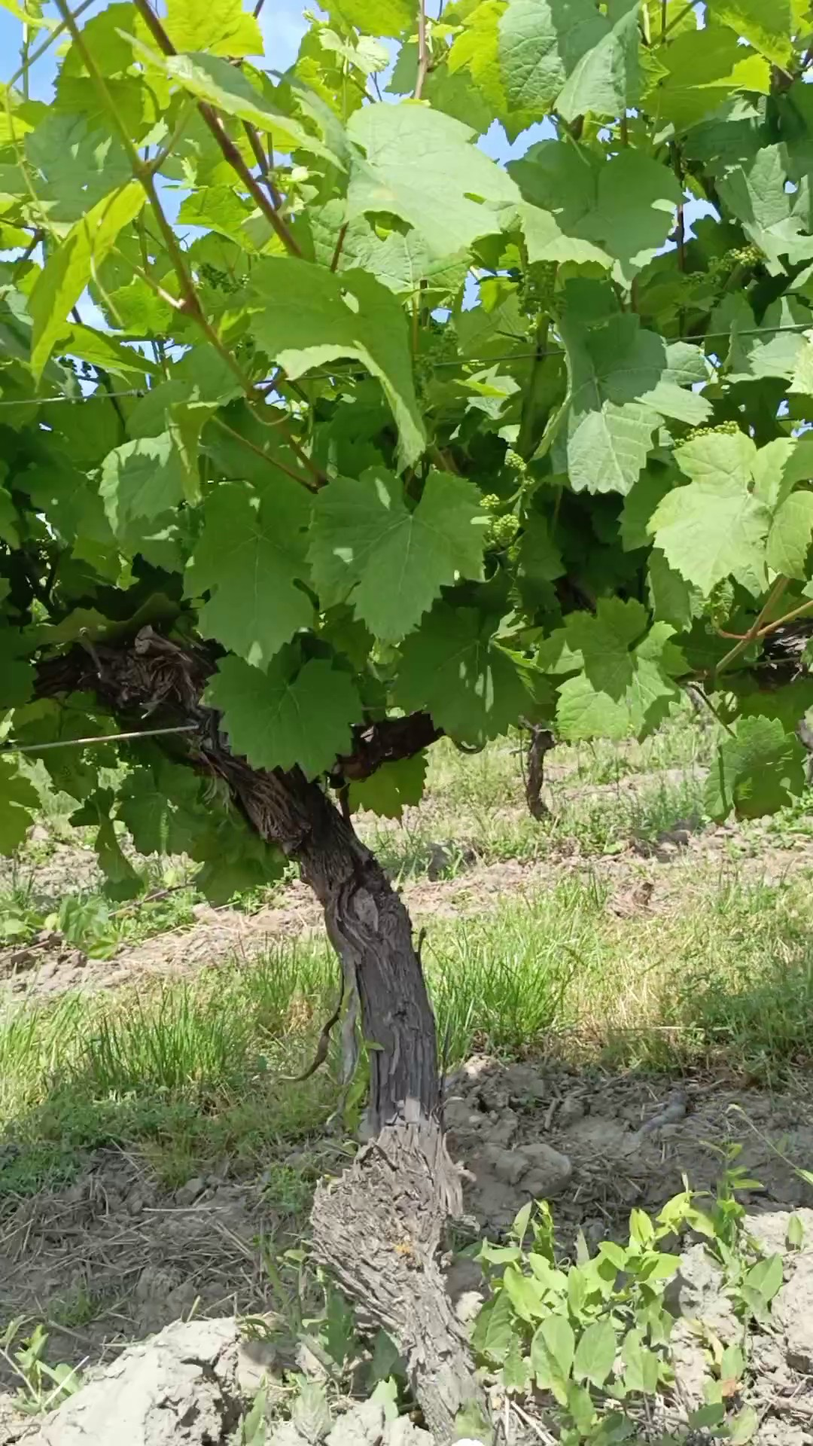vine_trunk: (227, 755, 485, 1440)
